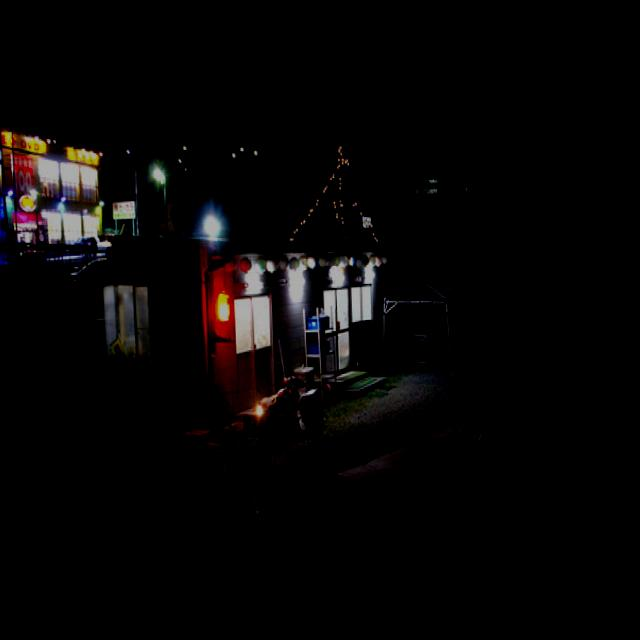Vehicle: (271, 358, 326, 453), (62, 256, 111, 310), (68, 236, 98, 256)
